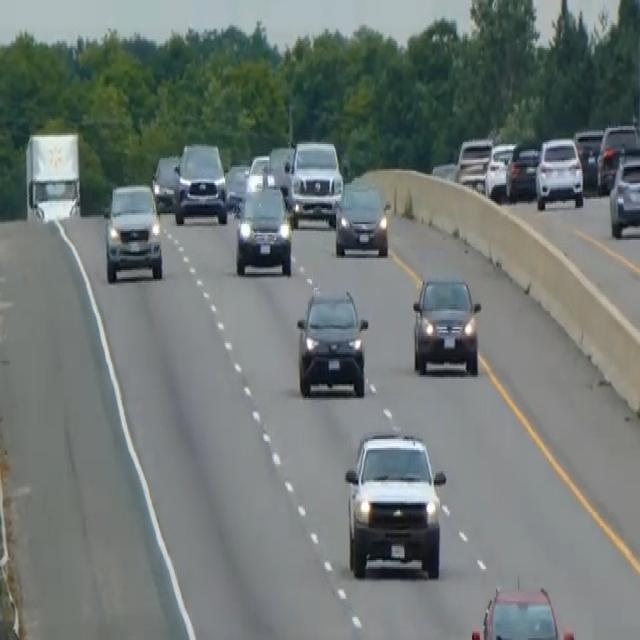car: (411, 272, 482, 377), (103, 181, 163, 283), (470, 580, 575, 638), (234, 180, 293, 276), (286, 137, 343, 222), (173, 140, 228, 226), (333, 178, 389, 258), (534, 133, 584, 210), (596, 121, 639, 194), (608, 148, 639, 238), (453, 135, 492, 192), (505, 139, 540, 201), (483, 141, 515, 199), (150, 151, 180, 212), (573, 126, 603, 187), (224, 158, 250, 212), (245, 151, 271, 194)
jeep: (342, 425, 448, 581), (294, 284, 369, 398)
lorry: (23, 128, 83, 224)
